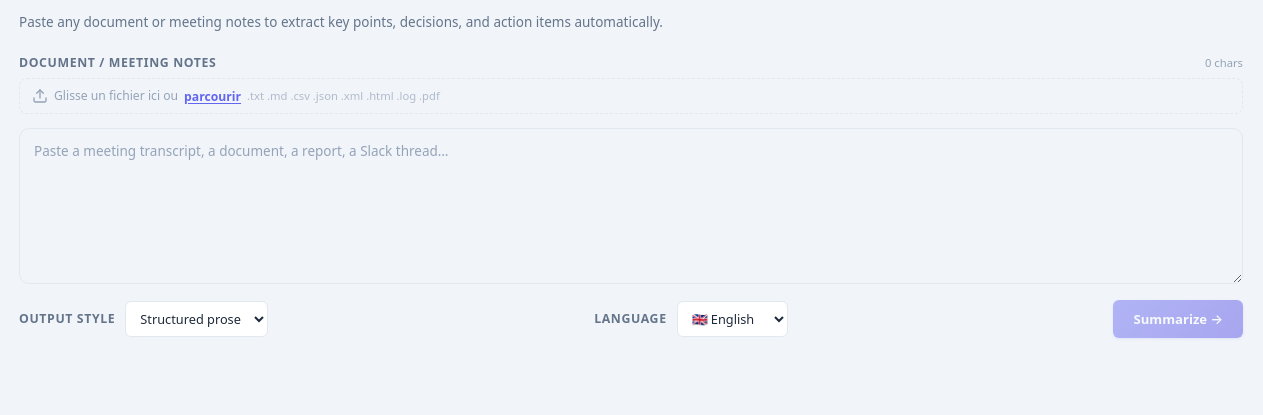
it: DocumentAnalyzer › shows error message on API failure
The image size is (1263, 415).
Type "some notes" into the text box labelled "Document / meeting notes" at point(631, 206), box [19,128,1243,284]
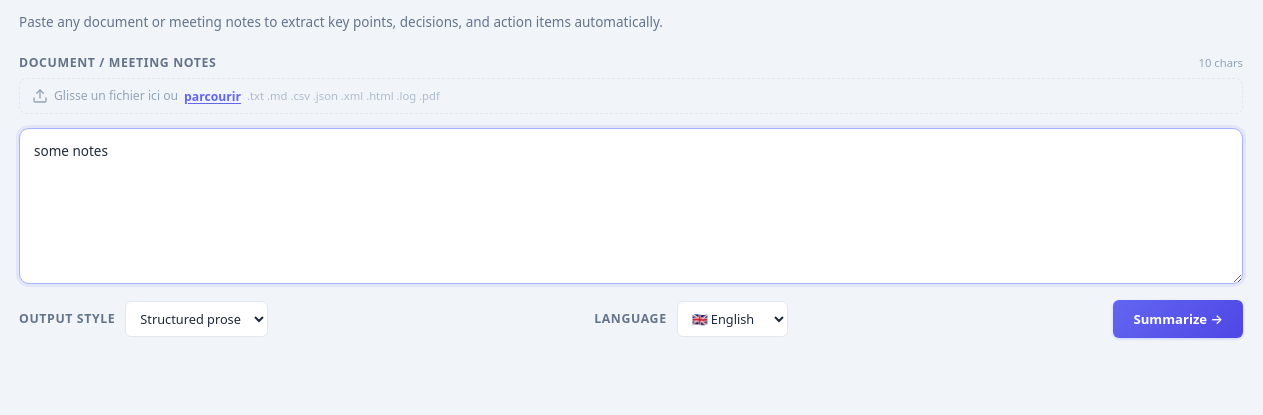
Click the button "Summarize →" at point(1178, 319), box [1114,300,1243,338]
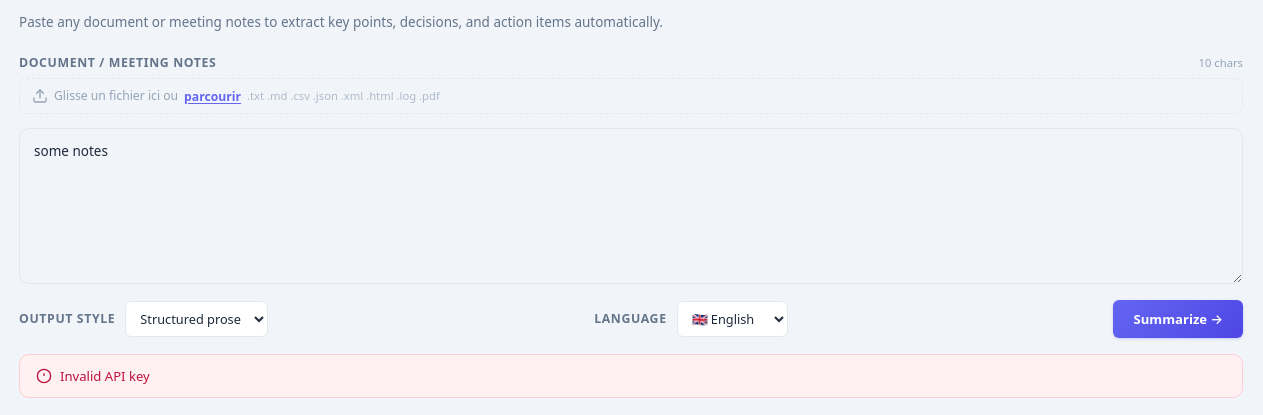
Expected: the text "Invalid API key" is shown, [19,354,1243,398]
